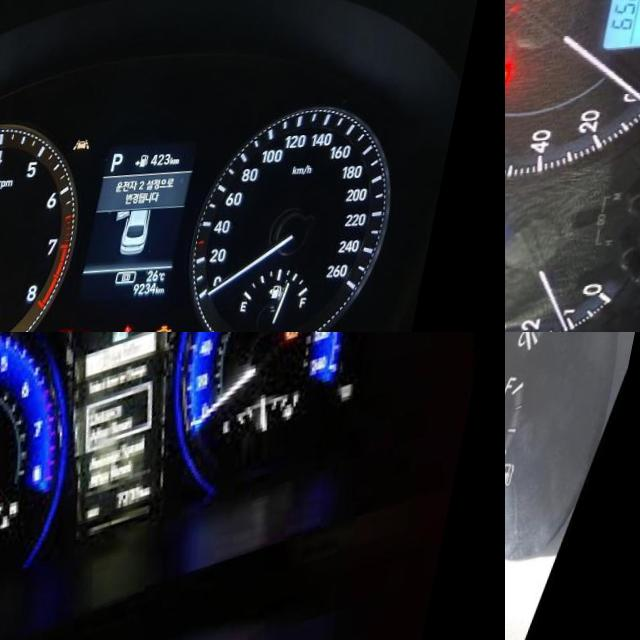LaneCenteringOff: (84, 142, 104, 155)
Seat Belt: (505, 69, 522, 90)
